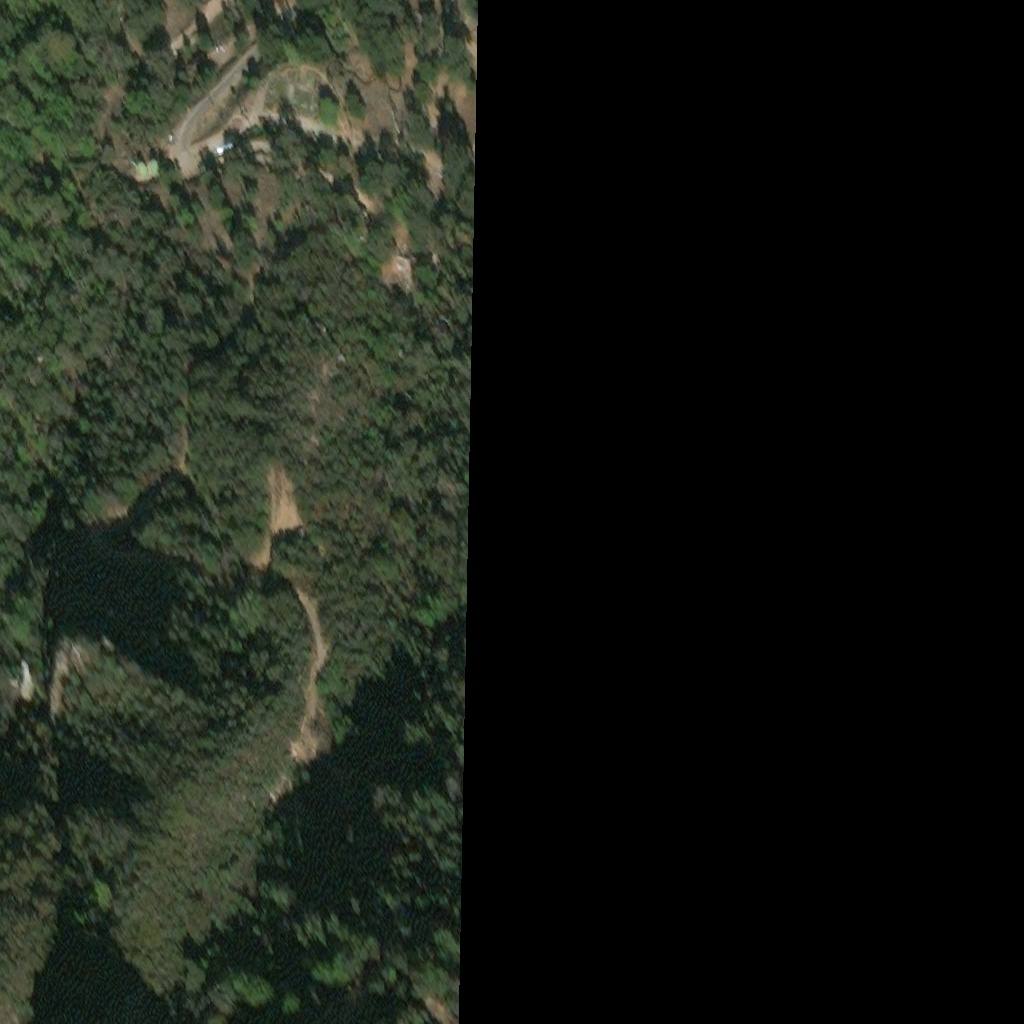0 no-damage: (324, 88, 332, 105), (136, 161, 146, 172), (149, 159, 159, 170)
